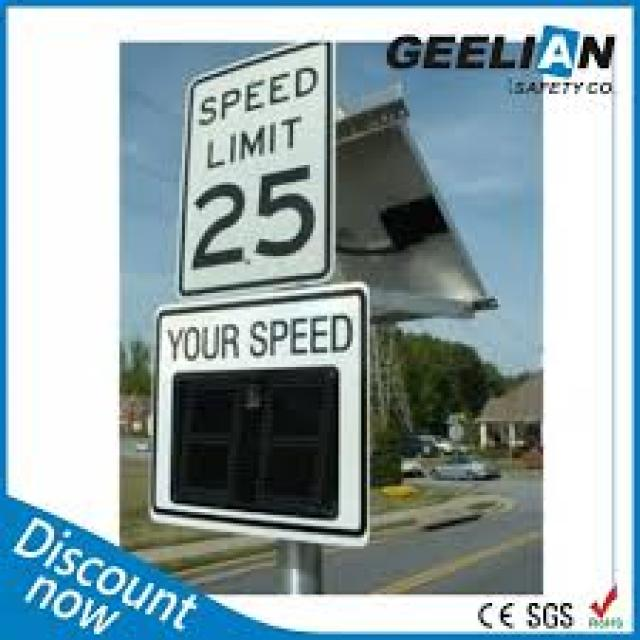speedLimit25: (175, 32, 334, 292)
